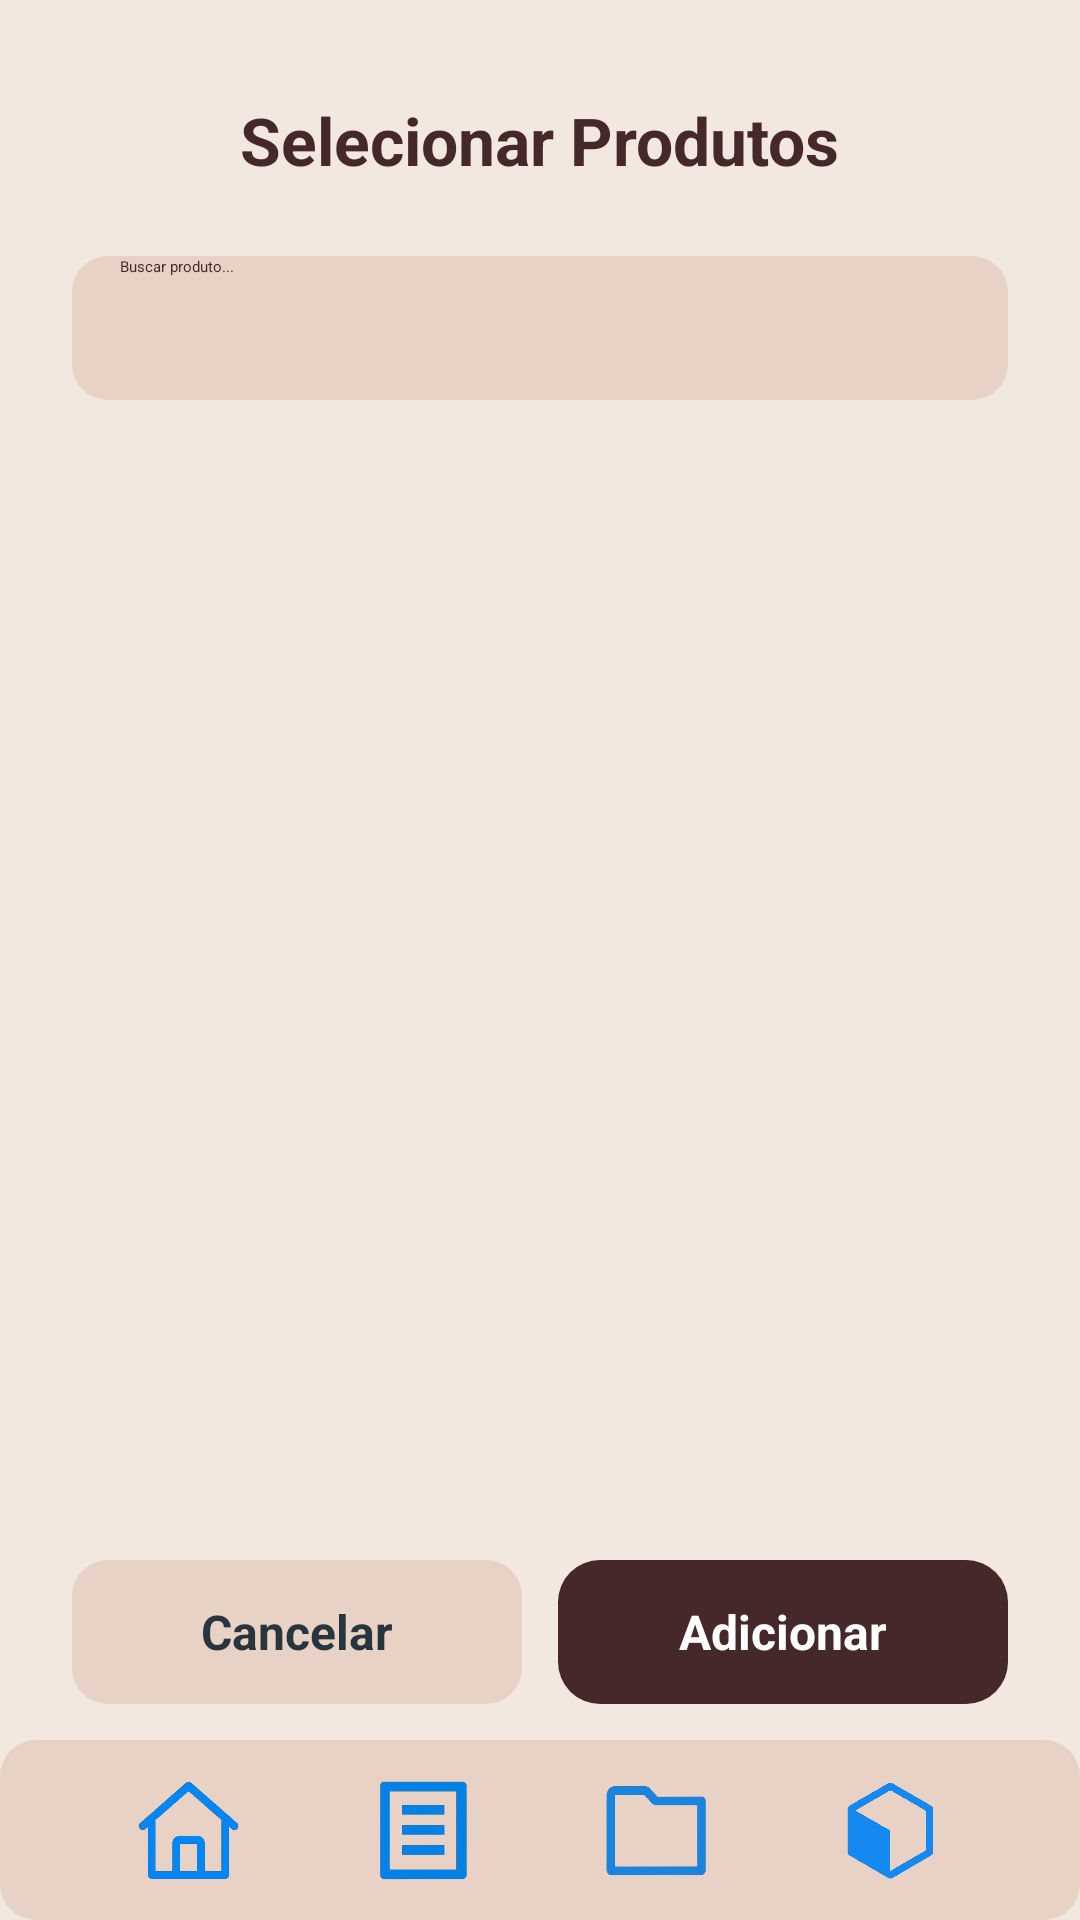

Locate icon controls on the screen. Image size 1080x1920, boxes as (x1, y1, x2, y2).
caixa: (847, 1783, 933, 1879)
home: (139, 1782, 239, 1879)
lista: (380, 1781, 467, 1879)
pasta: (606, 1786, 706, 1875)
